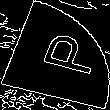P_W: (17, 30, 93, 80)
